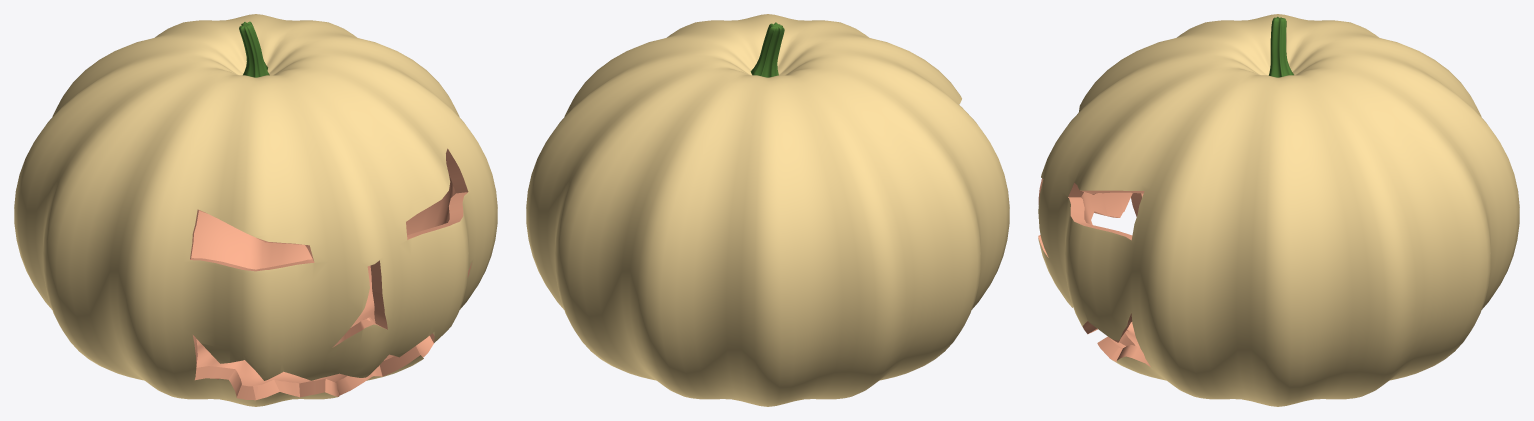
Rendered from potiron02.obj.
3 views of the same model, side by side, from view 1: azimuth 30°, elevation 25°; view 2: azimuth 150°, elevation 25°; view 3: azimuth 270°, elevation 25° (orthographic).
Visible parts, largest first — view 1: body, Tail; view 2: body, Tail; view 3: body, Tail.
Boxes of the visible parts, left/top/right/bottom form: body: left=14, top=14, right=497, bottom=406; Tail: left=239, top=21, right=269, bottom=77; body: left=526, top=14, right=1009, bottom=406; Tail: left=750, top=22, right=784, bottom=77; body: left=1038, top=14, right=1519, bottom=406; Tail: left=1268, top=16, right=1293, bottom=77.
Size of the model in its own units: 22.86 by 17.5 by 22.77.
